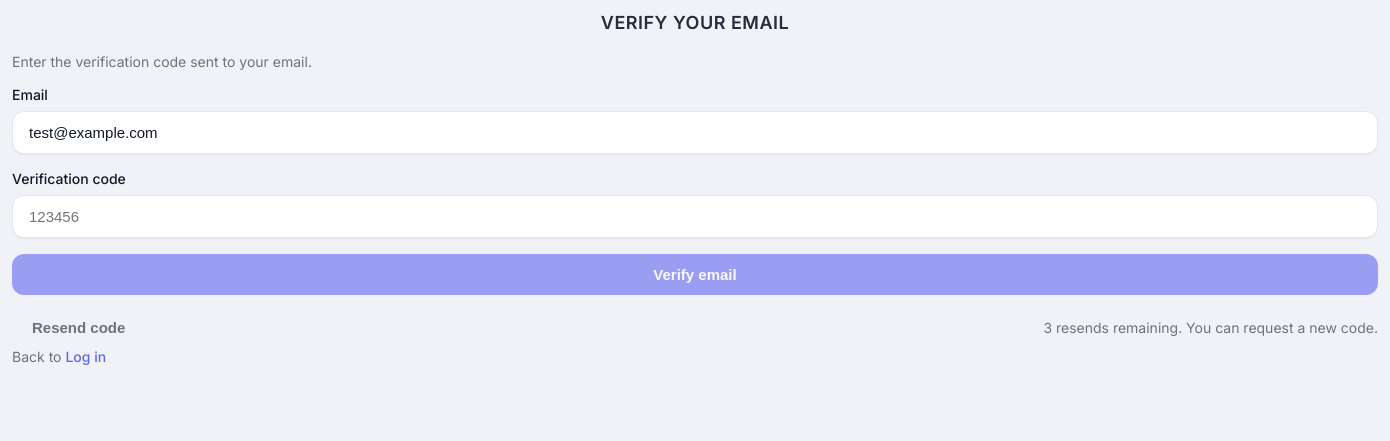
VerifyEmail – resend limit › should disable resend permanently after 3 attempts and show limit message
Click the button "Resend code" at (79,328), box top-left (12, 307), bottom-right (145, 348)
Wait 120000 ms
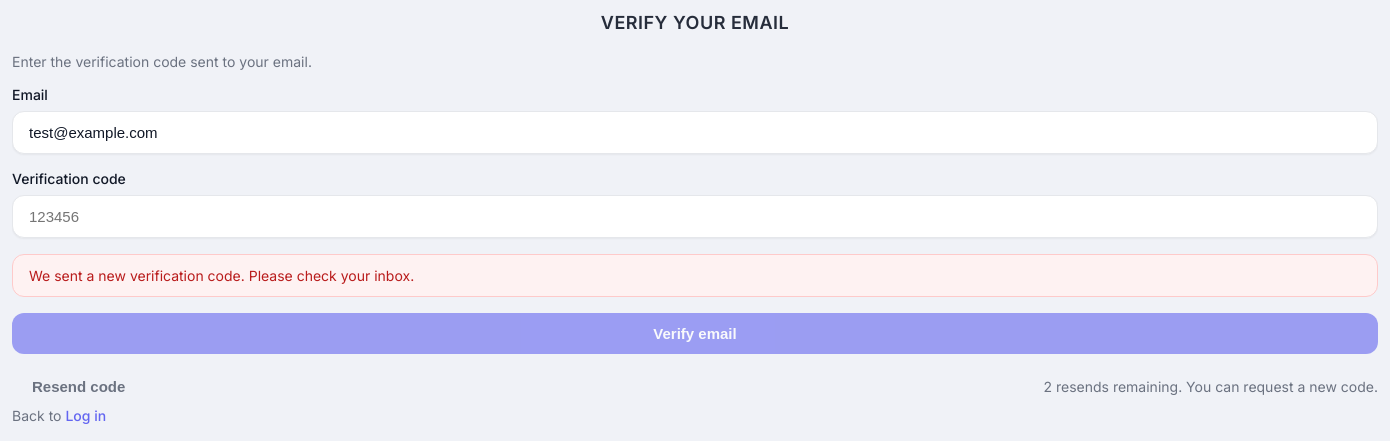
Click the button "Resend code" at (79,386), box top-left (12, 366), bottom-right (145, 407)
Wait 120000 ms
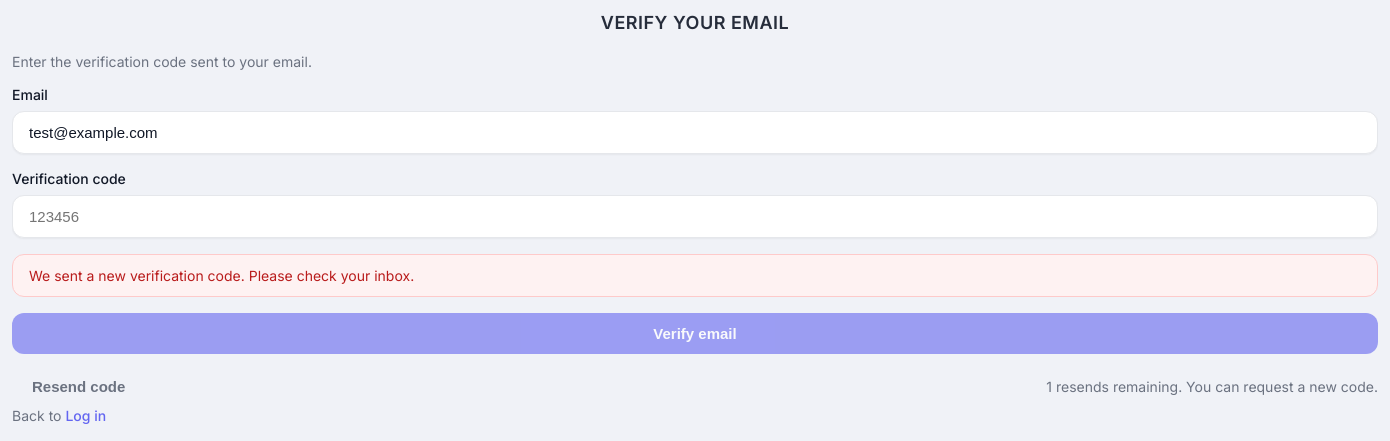
Click the button "Resend code" at (79,386), box top-left (12, 366), bottom-right (145, 407)
Wait 120000 ms
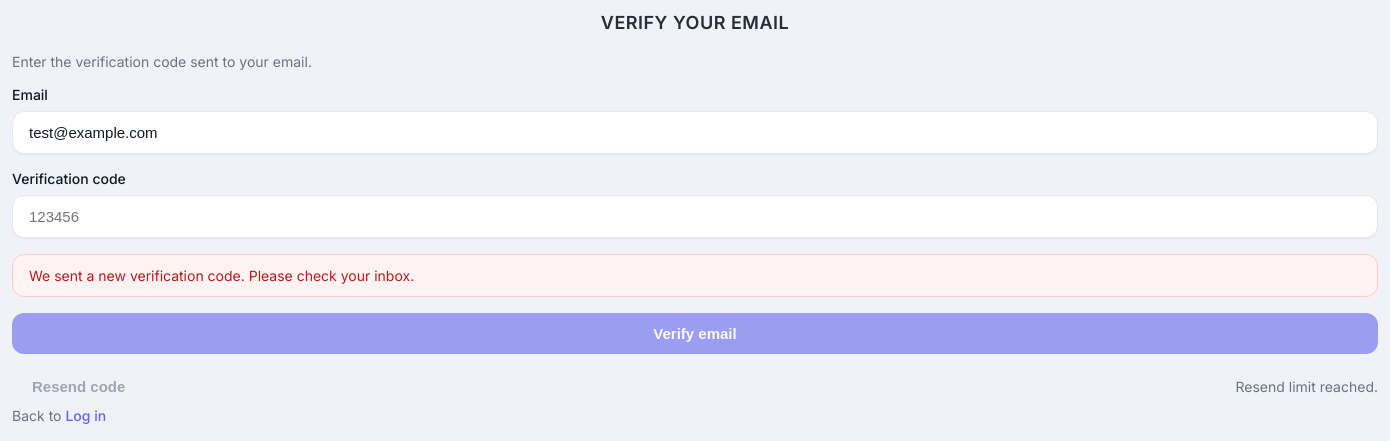
Expected: the button "Resend code" is disabled, top-left (12, 366), bottom-right (145, 407)
Expected: the text "Resend limit reached." is shown, top-left (1236, 378), bottom-right (1378, 395)
